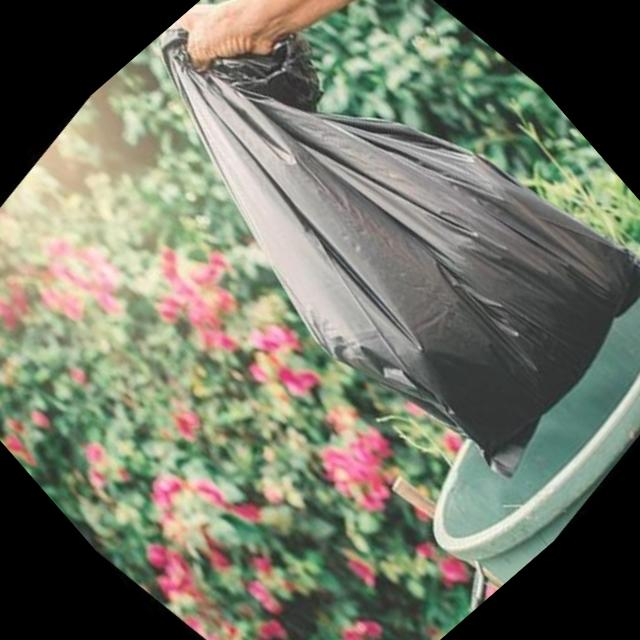KantongPlastik: (95, 0, 640, 517)
